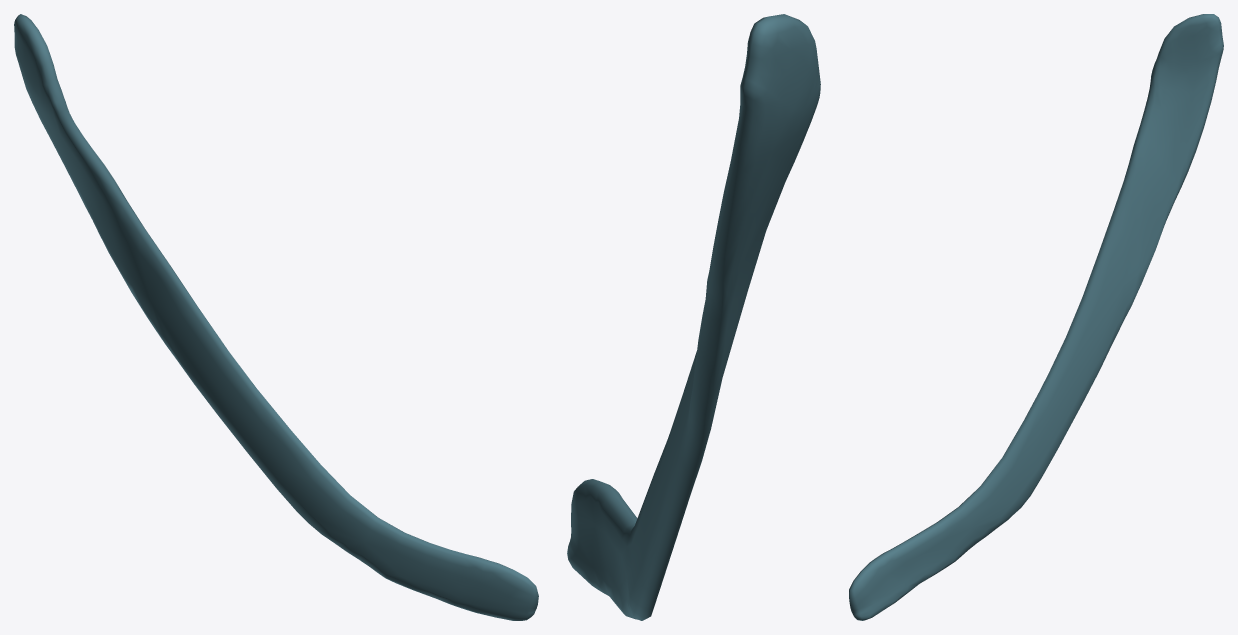
Rendered from Thyrohyoid_muscle_on_thyroid_cartilage.r_Generated_Mesh_From_X3.glb.
The picture shows the model from 3 angles, left to right: view 1: azimuth 30°, elevation 25°; view 2: azimuth 150°, elevation 25°; view 3: azimuth 270°, elevation 25°; orthographic projection. The views are drawn at different scales.
Visible parts, largest first — view 1: Thyrohyoid_muscle_on_thyroid_cartilage.r_Generated_Mesh_From; view 2: Thyrohyoid_muscle_on_thyroid_cartilage.r_Generated_Mesh_From; view 3: Thyrohyoid_muscle_on_thyroid_cartilage.r_Generated_Mesh_From.
Part boxes in pixels (<box>): Thyrohyoid_muscle_on_thyroid_cartilage.r_Generated_Mesh_From: <box>14,14,538,620</box>; Thyrohyoid_muscle_on_thyroid_cartilage.r_Generated_Mesh_From: <box>567,14,820,620</box>; Thyrohyoid_muscle_on_thyroid_cartilage.r_Generated_Mesh_From: <box>849,14,1223,620</box>.
Size of the model in its own units: 0.0119 by 0.0191 by 0.0136.
